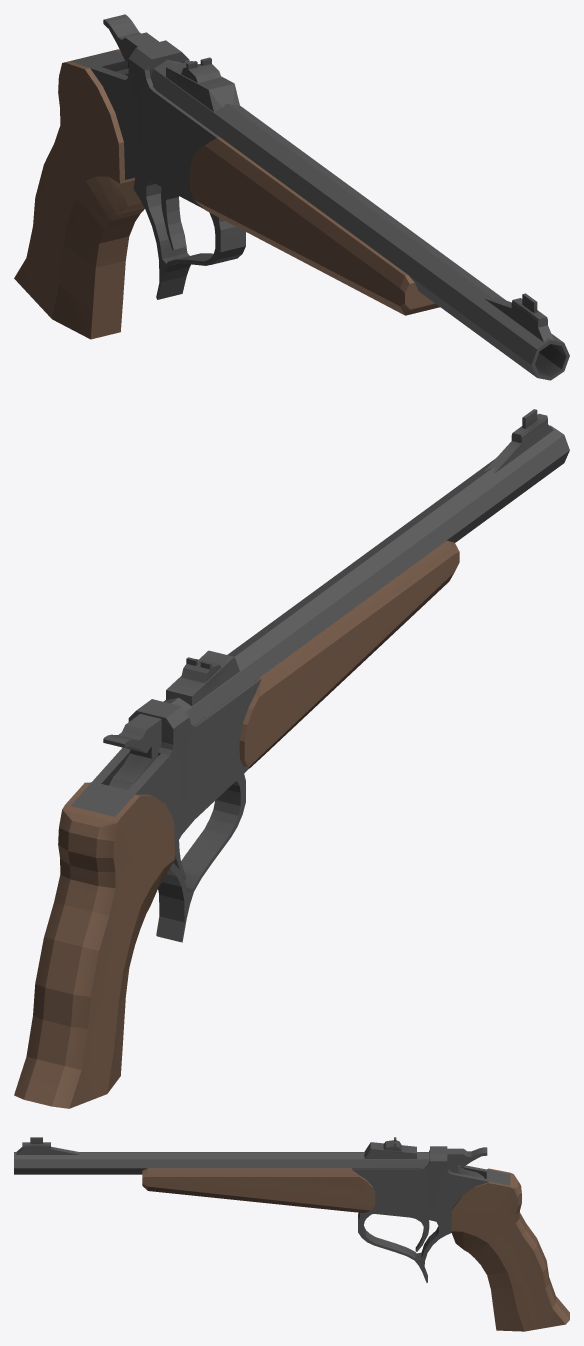
The model's file is contender.glb.
3 views of the same model, one above another, from view 1: azimuth 30°, elevation 25°; view 2: azimuth 150°, elevation 25°; view 3: azimuth 270°, elevation 25° (orthographic). The views are drawn at different scales.
Visible parts, largest first — view 1: Grip_Pistol_Contender_mat_0.001, Barrel_Short_Contender_mat_0.001, Handguard_Pistol_Contender_mat_0.001, Body_Contender_mat_0.002, Trigger_Guard_Contender_mat_0.002, Rear_Sights_Contender_mat_0.001, Front_Sights_Contender_mat_0.002, Hammer_Contender_mat_0.002, Trigger_Contender_mat_0.002; view 2: Grip_Pistol_Contender_mat_0.001, Barrel_Short_Contender_mat_0.001, Handguard_Pistol_Contender_mat_0.001, Body_Contender_mat_0.002, Trigger_Guard_Contender_mat_0.002, Hammer_Contender_mat_0.002, Rear_Sights_Contender_mat_0.001, Front_Sights_Contender_mat_0.002; view 3: Grip_Pistol_Contender_mat_0.001, Handguard_Pistol_Contender_mat_0.001, Barrel_Short_Contender_mat_0.001, Body_Contender_mat_0.002, Trigger_Guard_Contender_mat_0.002, Rear_Sights_Contender_mat_0.001, Hammer_Contender_mat_0.002, Front_Sights_Contender_mat_0.002.
Boxes of the visible parts, box(x1,y1,x2,y2) form: Grip_Pistol_Contender_mat_0.001: box(14, 49, 144, 339); Barrel_Short_Contender_mat_0.001: box(150, 59, 569, 380); Handguard_Pistol_Contender_mat_0.001: box(190, 137, 439, 315); Body_Contender_mat_0.002: box(71, 40, 219, 208); Trigger_Guard_Contender_mat_0.002: box(133, 177, 245, 299); Rear_Sights_Contender_mat_0.001: box(166, 57, 239, 111); Front_Sights_Contender_mat_0.002: box(484, 293, 553, 341); Hammer_Contender_mat_0.002: box(103, 14, 158, 75); Trigger_Contender_mat_0.002: box(161, 187, 186, 250); Grip_Pistol_Contender_mat_0.001: box(14, 782, 175, 1108); Barrel_Short_Contender_mat_0.001: box(163, 425, 569, 725); Handguard_Pistol_Contender_mat_0.001: box(239, 540, 459, 768); Body_Contender_mat_0.002: box(71, 678, 261, 845); Trigger_Guard_Contender_mat_0.002: box(156, 773, 245, 942); Hammer_Contender_mat_0.002: box(103, 714, 161, 790); Rear_Sights_Contender_mat_0.001: box(166, 650, 239, 705); Front_Sights_Contender_mat_0.002: box(484, 409, 553, 473); Grip_Pistol_Contender_mat_0.001: box(451, 1168, 569, 1331); Handguard_Pistol_Contender_mat_0.001: box(142, 1168, 375, 1212); Barrel_Short_Contender_mat_0.001: box(14, 1152, 429, 1174); Body_Contender_mat_0.002: box(352, 1146, 510, 1228); Trigger_Guard_Contender_mat_0.002: box(358, 1212, 451, 1282); Rear_Sights_Contender_mat_0.001: box(364, 1137, 416, 1158); Hammer_Contender_mat_0.002: box(447, 1147, 487, 1178); Front_Sights_Contender_mat_0.002: box(16, 1137, 79, 1154).
Bounding box in the file's own units: 0.0286 × 0.1721 × 0.4593.
1 material, 1 textured.
